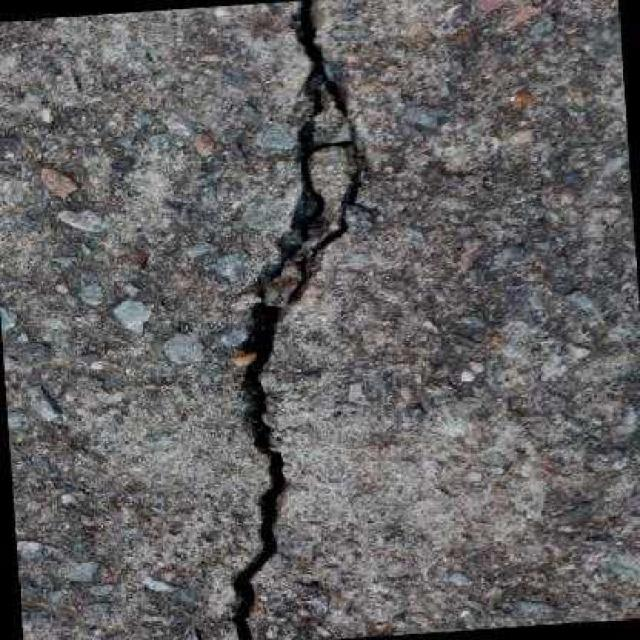D00: (235, 0, 365, 640)
